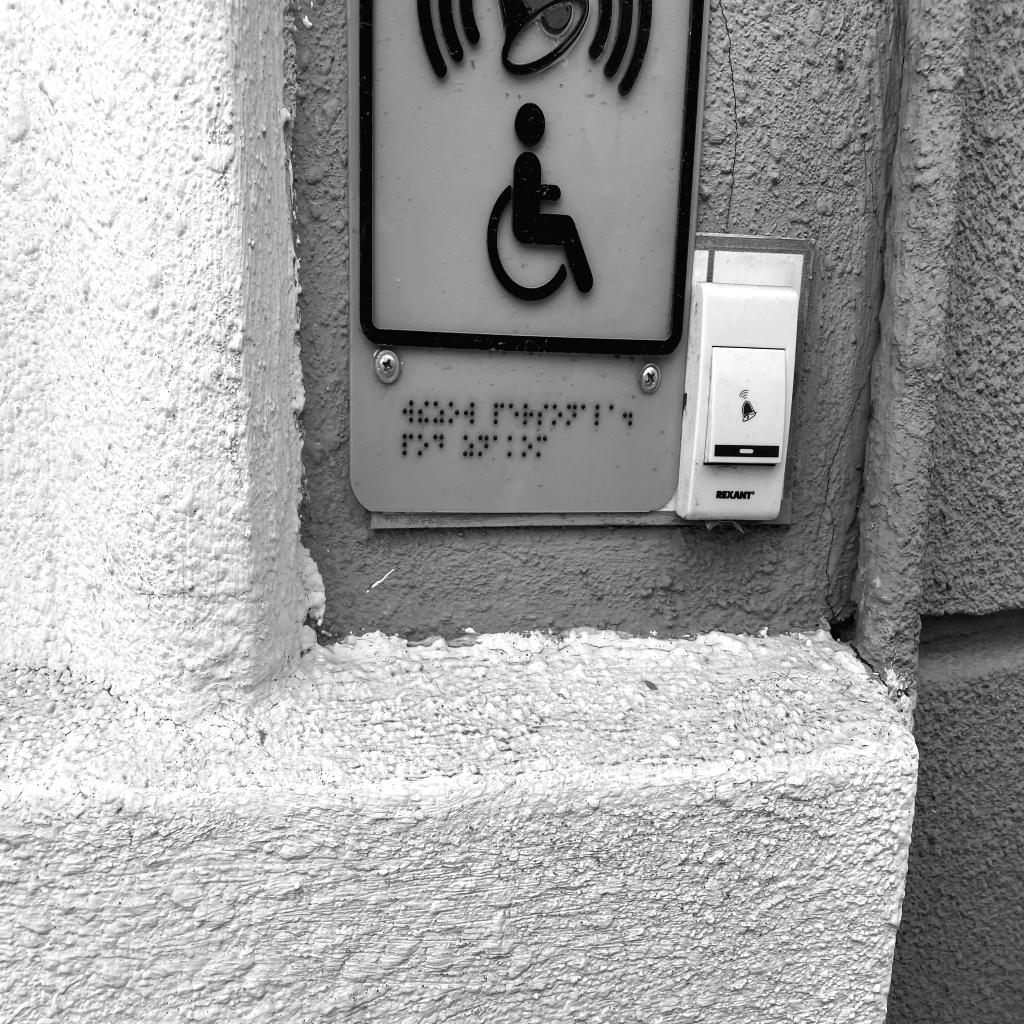_n: (477, 434, 489, 457), (566, 403, 577, 426)
a: (609, 403, 620, 426), (493, 435, 504, 457), (581, 403, 591, 426)
d: (433, 433, 444, 456)
e: (509, 402, 519, 425)
ii: (418, 399, 429, 423)
k: (507, 435, 518, 457)
l: (595, 403, 606, 426)
m: (536, 434, 548, 458)
o: (417, 433, 429, 456), (448, 400, 459, 424), (522, 435, 533, 458), (552, 403, 562, 425)
p: (402, 432, 414, 456), (494, 401, 505, 425)
r: (522, 402, 534, 425)
s: (537, 403, 549, 426)
tochka: (622, 404, 633, 426)
v: (463, 401, 475, 425), (402, 399, 413, 423)
z: (462, 434, 474, 458), (433, 400, 444, 424)
